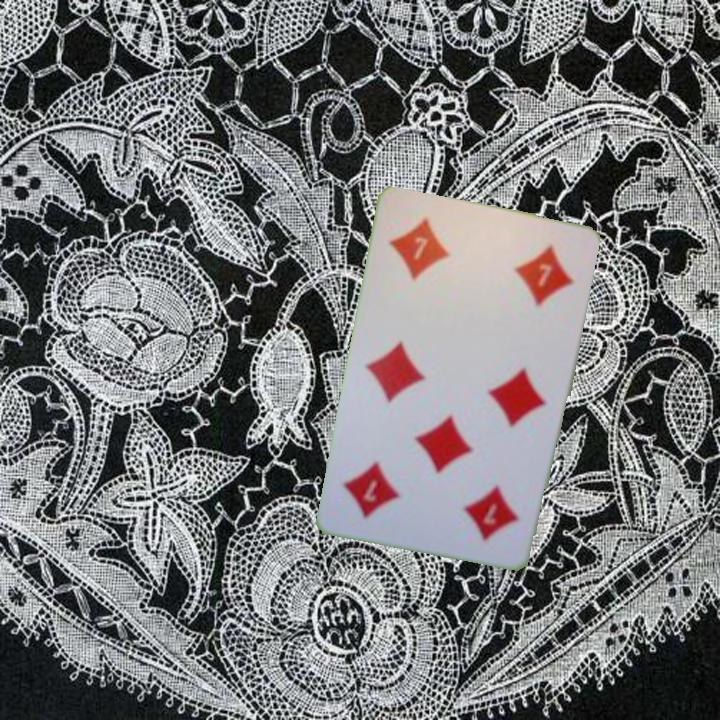d_7.png: (426, 452, 539, 555), (378, 203, 491, 305)
